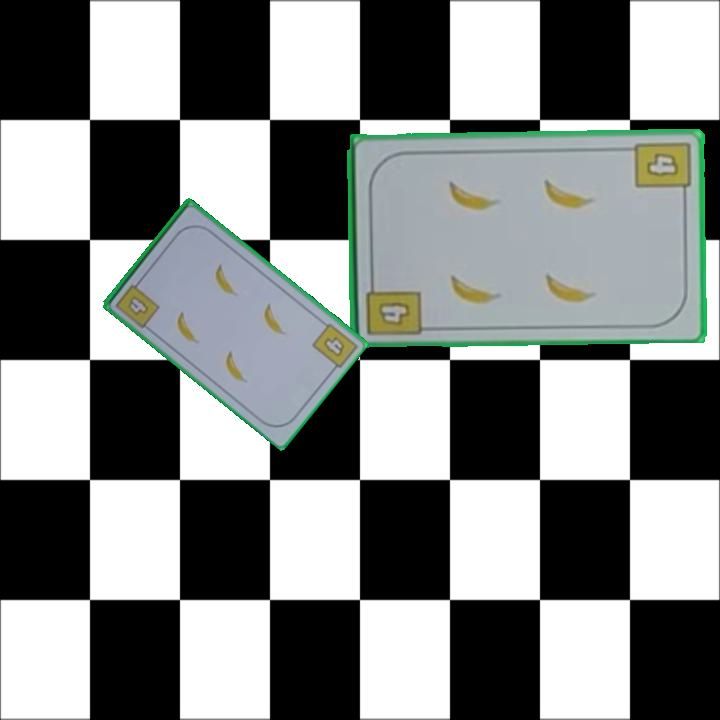4b: (631, 137, 693, 201), (362, 273, 423, 338), (112, 275, 163, 331), (320, 333, 348, 360)
